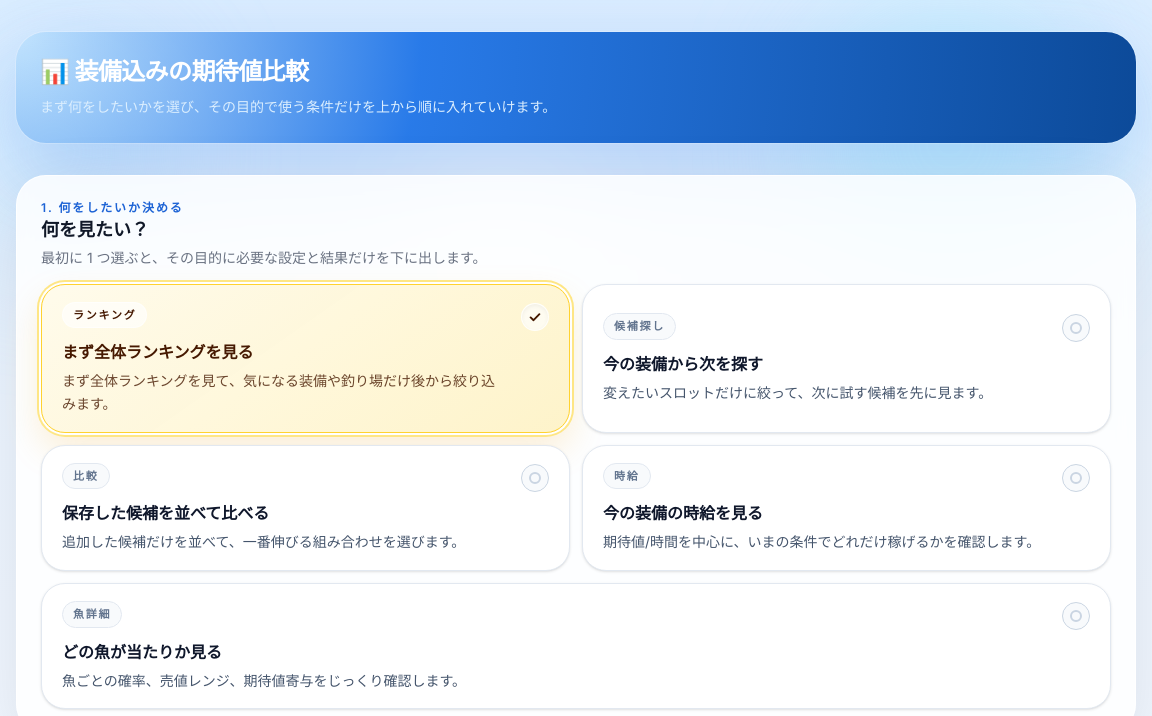
it: UI quality – overflow and wrapping prevention › keeps the visible goal context outside the calculation notes for non-ranking goals
This screenshot has width=1152, height=716.
Click the button "候補探し 今の装備から次を探す 変えたいスロットだけに絞って、次に試す候補を先に見ます。" at (640, 326), box [582,284,1111,433]
(page scrolled)
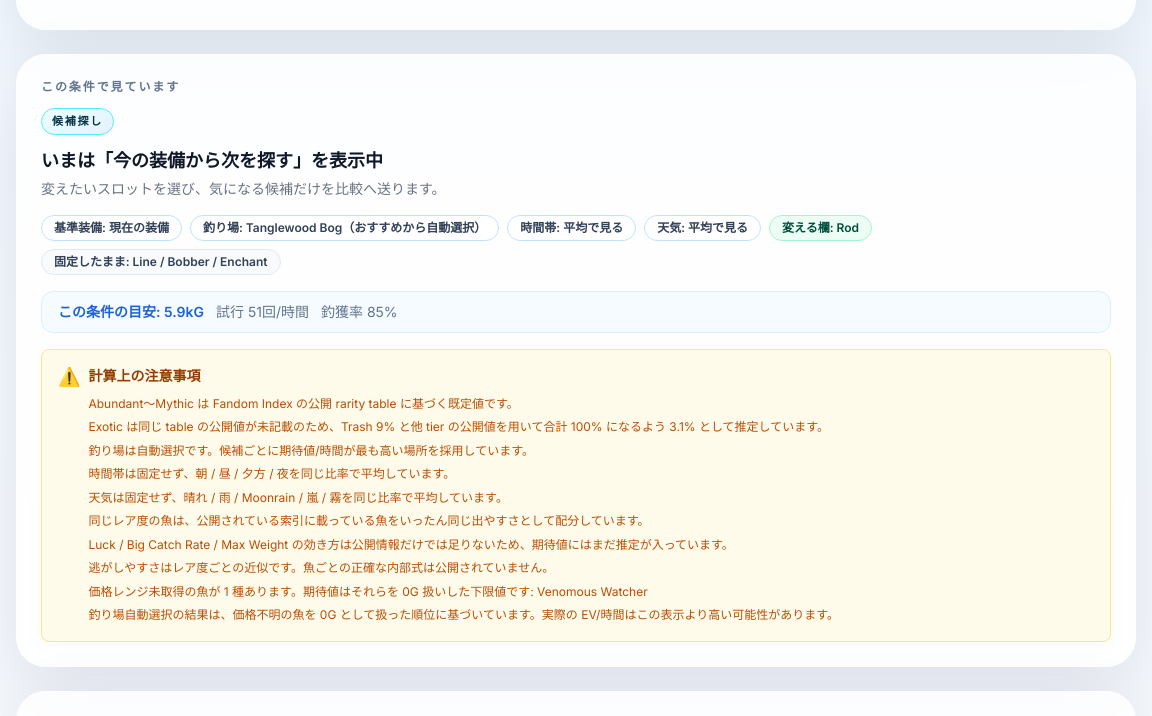
Result: the element with test id "current-goal-context" shows "いまは「今の装備から次を探す」を表示中"
Result: the element with test id "current-goal-context" shows "基準装備:"
Result: the element with test id "current-goal-context" shows "釣り場:" at [203,220,246,235]
